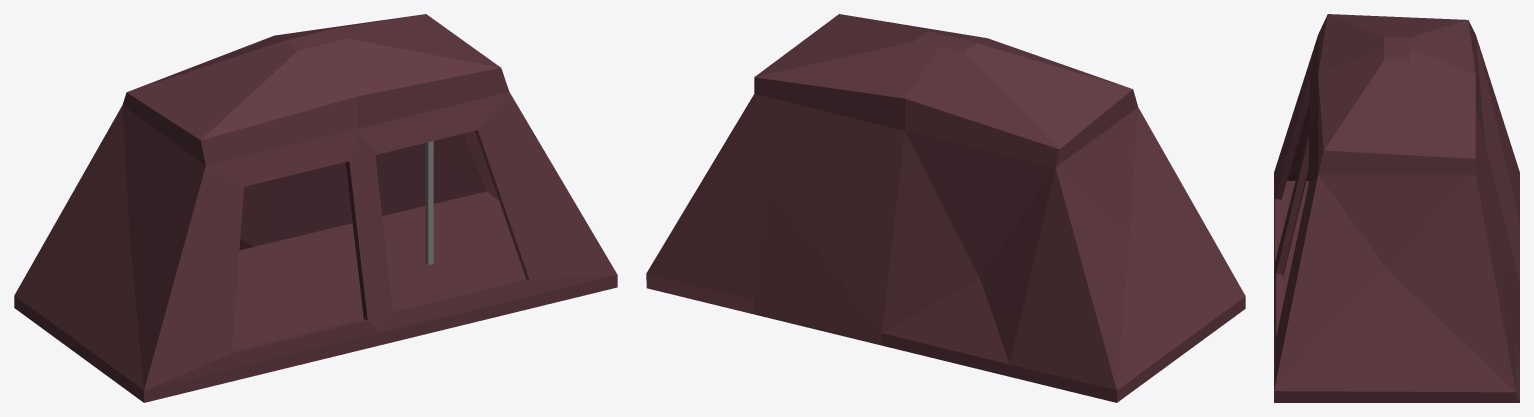
Rendered from tent-big.fbx.
The picture shows the model from 3 angles, left to right: view 1: azimuth 30°, elevation 25°; view 2: azimuth 150°, elevation 25°; view 3: azimuth 270°, elevation 25°; orthographic projection. The views are drawn at different scales.
Visible parts, largest first — view 1: tent-big; view 2: tent-big; view 3: tent-big.
Part boxes in pixels (x1,y1,x2,y2): tent-big: (14,14,617,402); tent-big: (646,14,1245,402); tent-big: (1274,14,1519,402).
Size of the model in its own units: 4.79 by 2.48 by 2.26.
